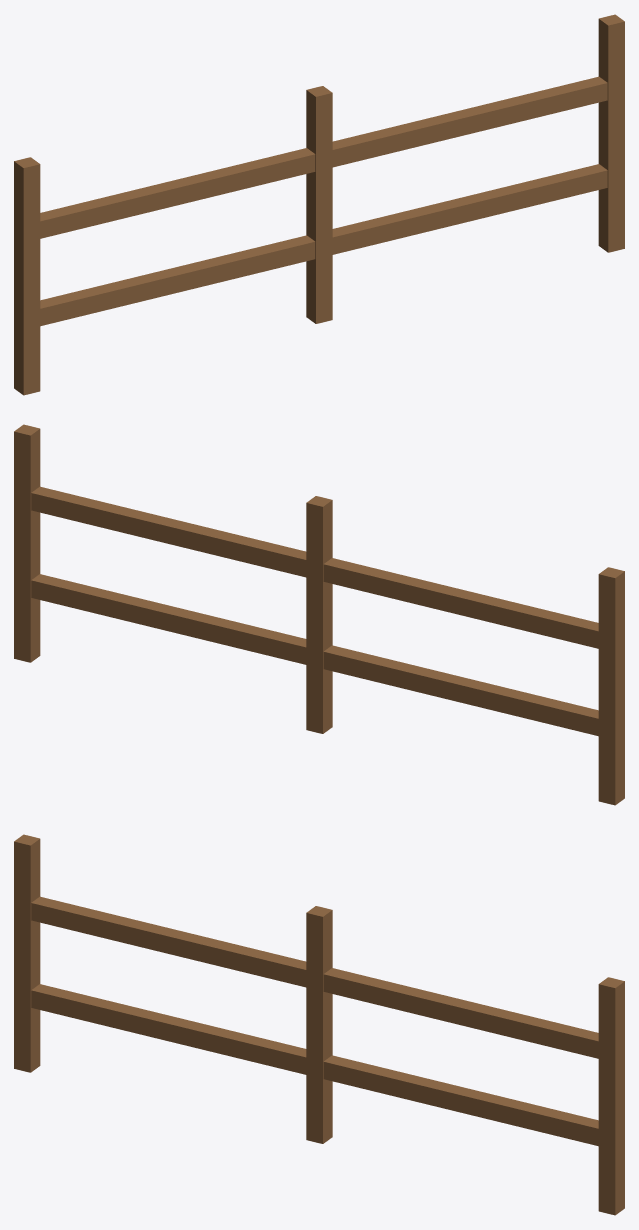
The model's file is Mush_MapProp_WoodFence_V2.fbx.
The picture shows the model from 3 angles, top to bottom: view 1: azimuth 30°, elevation 25°; view 2: azimuth 150°, elevation 25°; view 3: azimuth 330°, elevation 25°; orthographic projection.
Parts seen in each view (by area): view 1: Mush_MapProp_WoodFence_V2; view 2: Mush_MapProp_WoodFence_V2; view 3: Mush_MapProp_WoodFence_V2.
Part boxes in pixels (left/top/right/bottom): Mush_MapProp_WoodFence_V2: left=14, top=14, right=624, bottom=395; Mush_MapProp_WoodFence_V2: left=14, top=424, right=624, bottom=805; Mush_MapProp_WoodFence_V2: left=14, top=834, right=624, bottom=1215.
Bounding box in the file's own units: 360 × 130 × 10.
